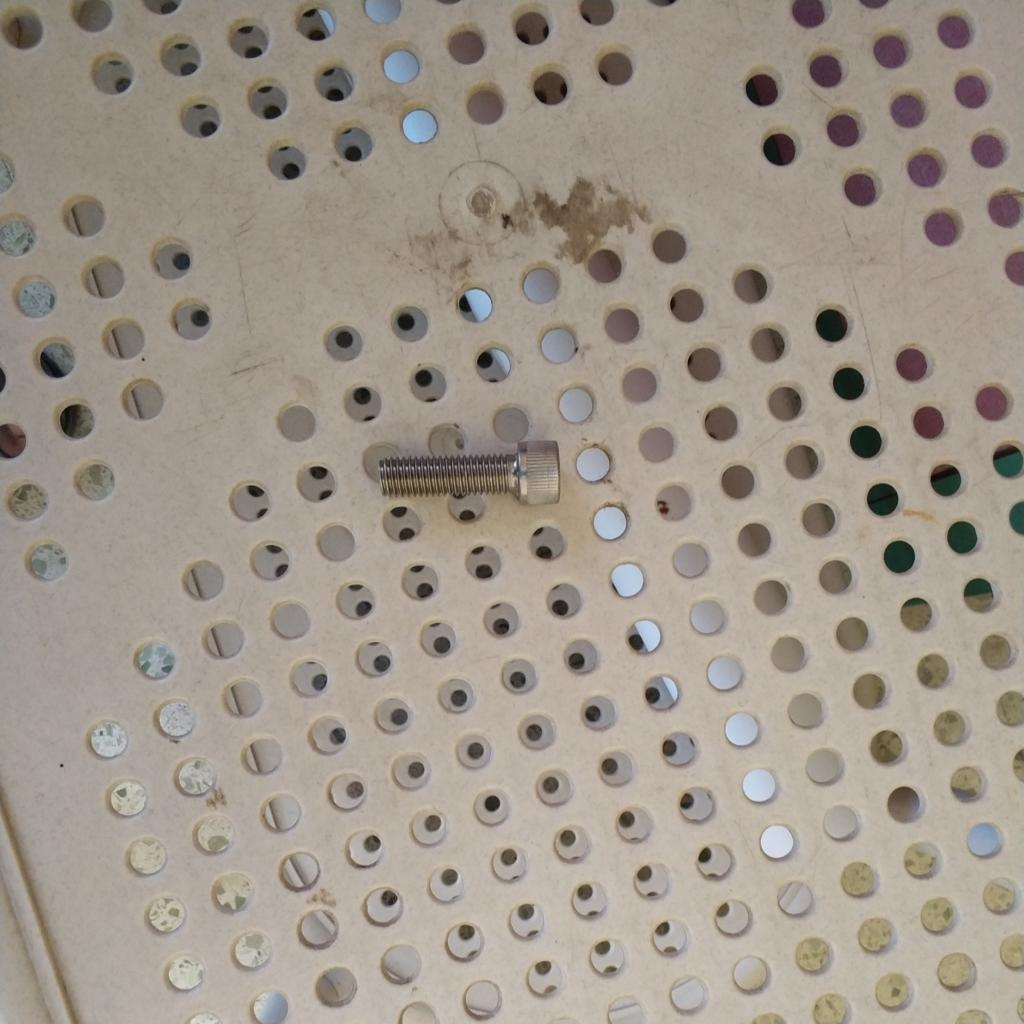screwtype1silver: (375, 437, 566, 515)
